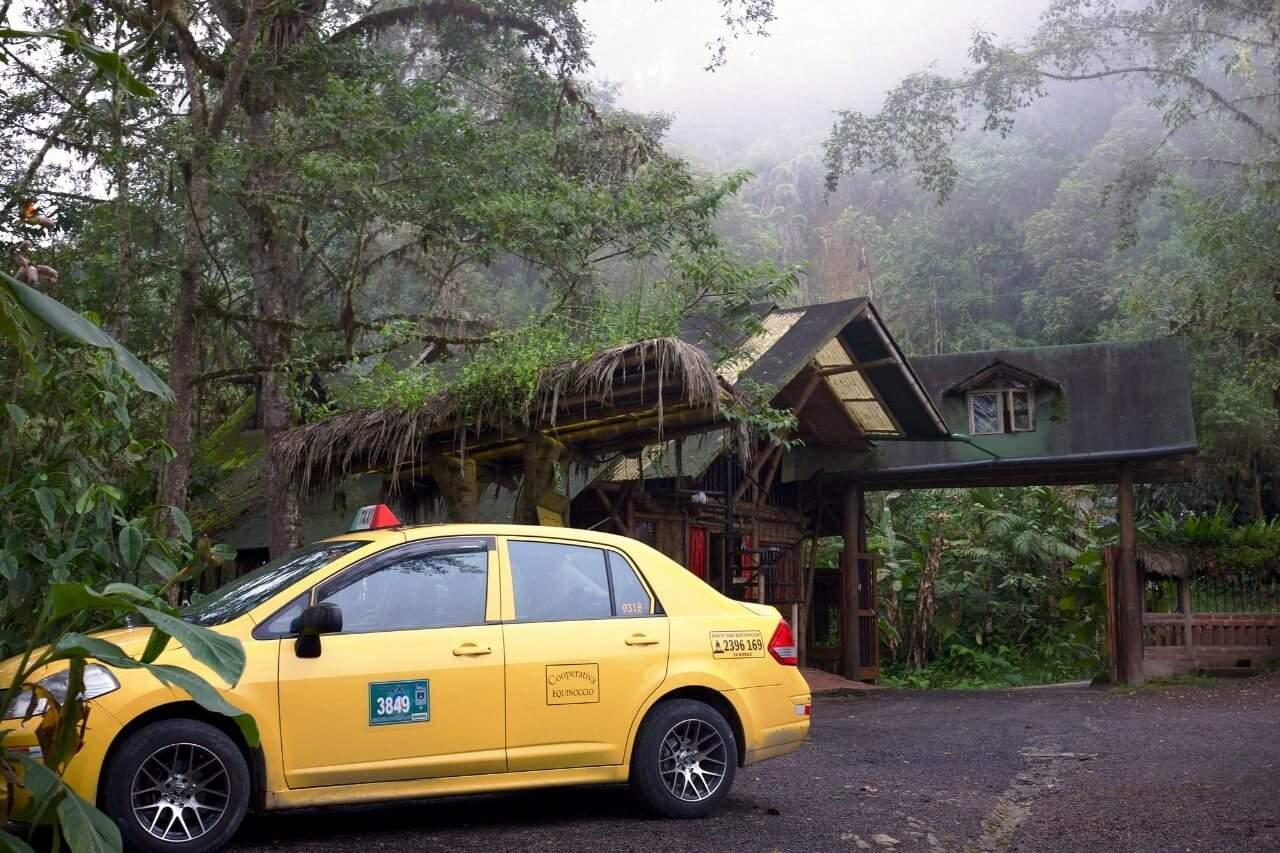taxi: (88, 505, 853, 853)
